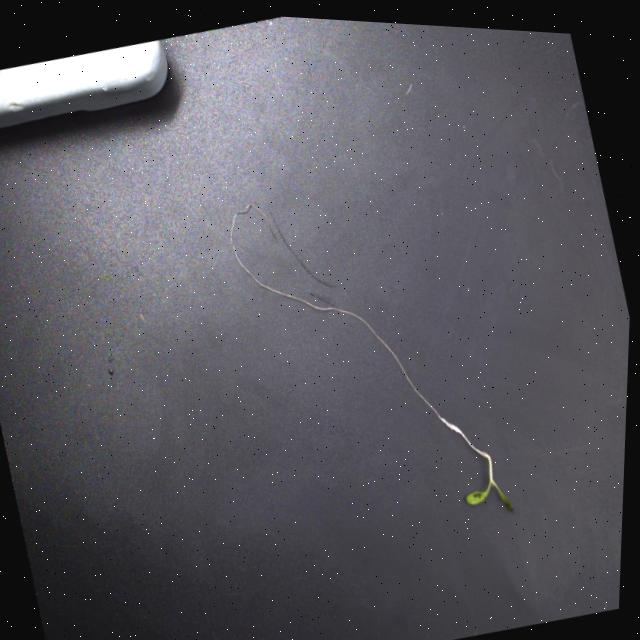leaf: (467, 480, 513, 509)
root: (228, 201, 446, 420)
steb: (441, 416, 486, 457), (482, 450, 496, 476)
